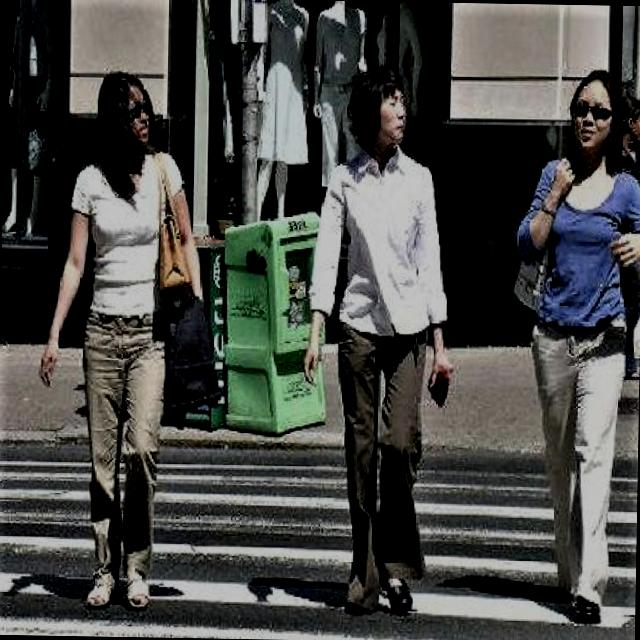Person: (33, 64, 206, 616), (294, 62, 464, 620), (503, 66, 640, 631)
